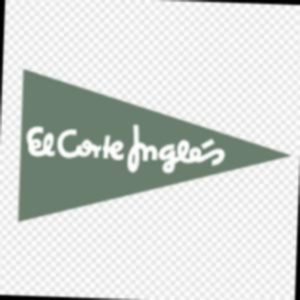corte_ingles: (214, 54, 237, 163)
